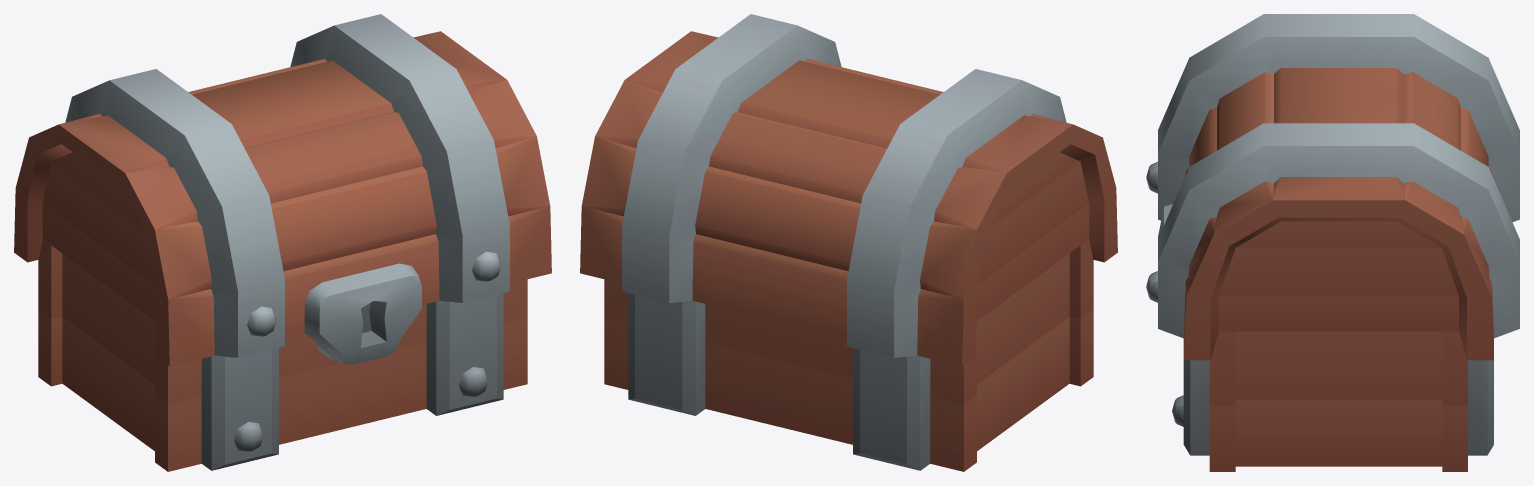
Rendered from chest_gold.glb.
3 renders of one model, left to right at view 1: azimuth 30°, elevation 25°; view 2: azimuth 150°, elevation 25°; view 3: azimuth 270°, elevation 25°, orthographic.
Visible parts, largest first — view 1: chest_gold_lid, chest_gold; view 2: chest_gold_lid, chest_gold; view 3: chest_gold_lid, chest_gold.
Part boxes in pixels (left/top/right/bottom): chest_gold_lid: left=14, top=14, right=551, bottom=366; chest_gold: left=38, top=239, right=527, bottom=471; chest_gold_lid: left=580, top=14, right=1117, bottom=366; chest_gold: left=604, top=239, right=1093, bottom=471; chest_gold_lid: left=1146, top=14, right=1519, bottom=360; chest_gold: left=1172, top=331, right=1493, bottom=471.
Size of the model in its own units: 1.7 by 1.3 by 1.45.
1 material, 1 textured.
